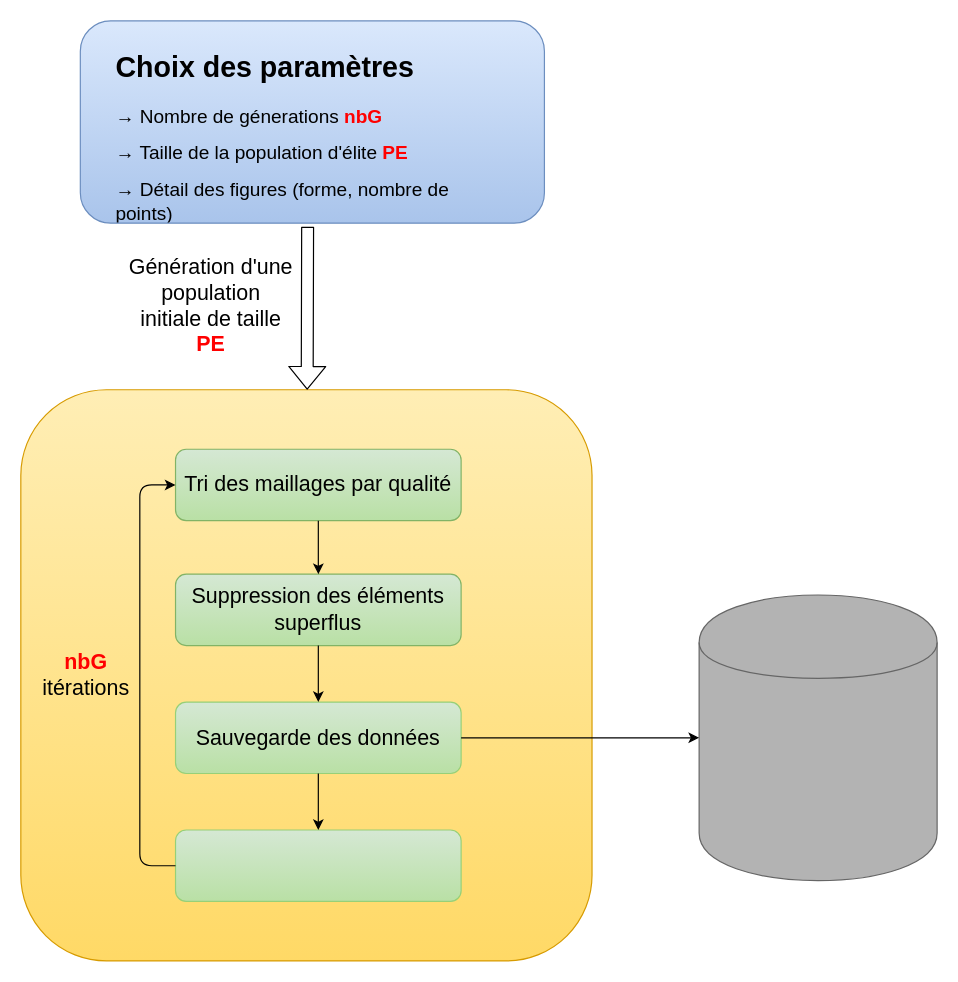
Some shapes in this 958 by 982 pixel diagram are drawn without their labels. The centre of each missing label's shape, as x and y in pixels:
Archives de toutes les générations: (x=817, y=737)
Croisement des meilleurs: (x=317, y=865)
